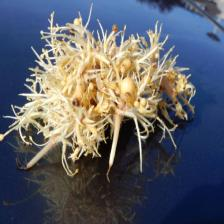Sprouted potato: (16, 19, 206, 177)
